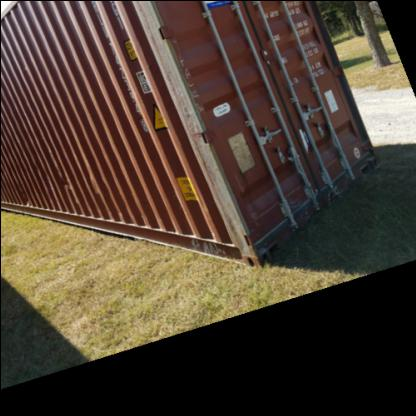Damage: (285, 187, 317, 215), (10, 178, 32, 208), (57, 160, 74, 190)
